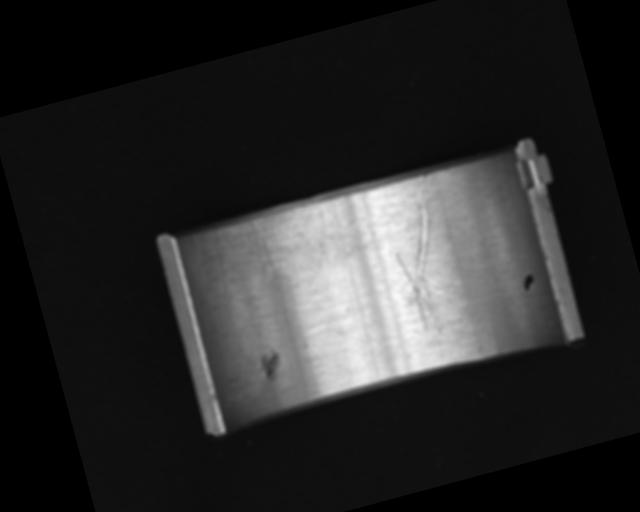blot: (519, 272, 538, 294)
bruise: (256, 348, 285, 382)
nick: (375, 173, 469, 341)
scratch: (223, 196, 357, 306)
